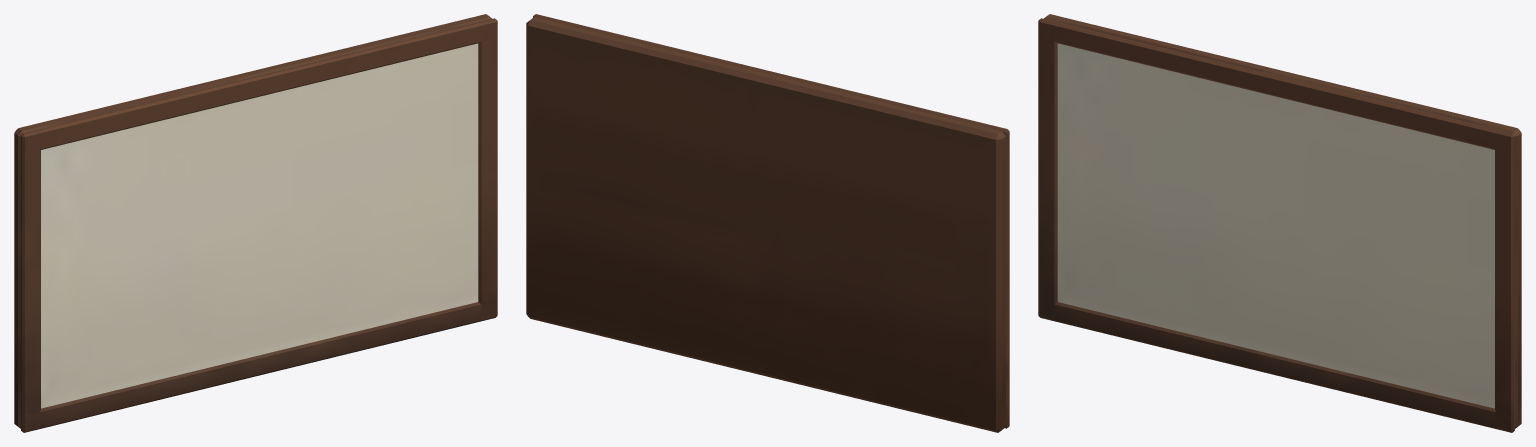
The model's file is menu_board_wall.glb.
The picture shows the model from 3 angles, left to right: view 1: azimuth 30°, elevation 25°; view 2: azimuth 150°, elevation 25°; view 3: azimuth 330°, elevation 25°; orthographic projection.
Visible parts, largest first — view 1: menu_board_wall; view 2: menu_board_wall; view 3: menu_board_wall.
Part boxes in pixels (bbox=[...]): menu_board_wall: bbox=[14, 14, 497, 432]; menu_board_wall: bbox=[526, 14, 1009, 432]; menu_board_wall: bbox=[1038, 14, 1521, 432].
Size of the model in its own units: 1 by 0.6 by 0.04.
2 materials, 2 textured.
